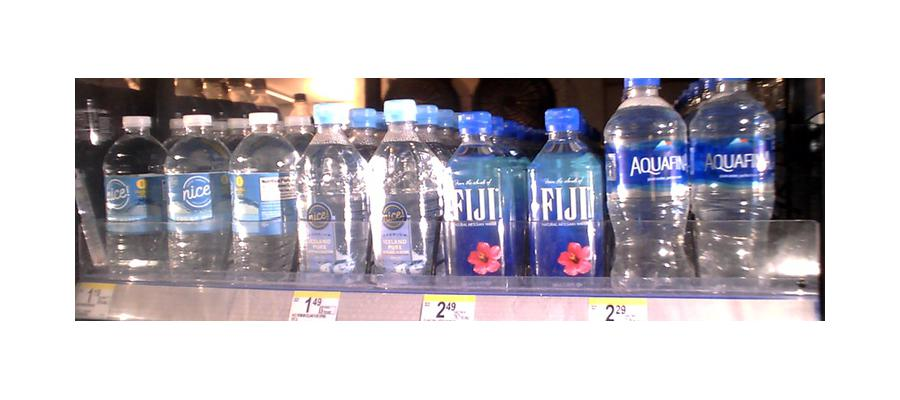bottle: (685, 80, 776, 280), (605, 72, 689, 287), (445, 111, 532, 281), (367, 101, 445, 284), (297, 104, 367, 284), (530, 106, 600, 283), (225, 107, 295, 279), (162, 113, 225, 281), (102, 112, 161, 280)
